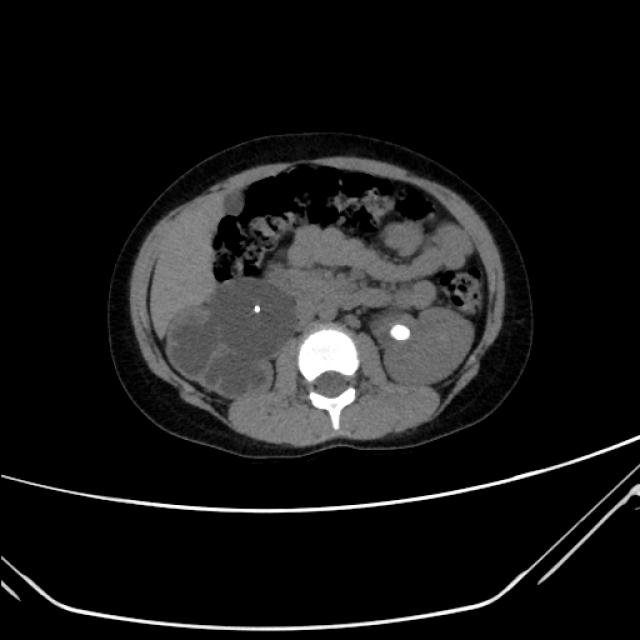kidney: (371, 303, 476, 387), (208, 275, 302, 359)
stone: (390, 321, 411, 342), (254, 304, 262, 315)
